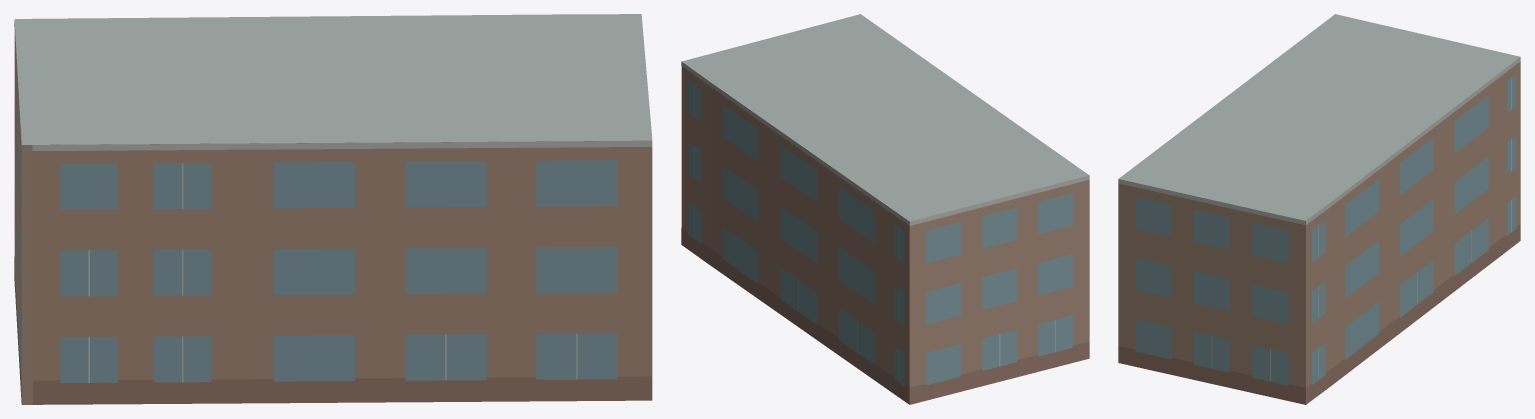
The model's file is survey-upis-32658300.glb.
The picture shows the model from 3 angles, left to right: view 1: azimuth 30°, elevation 25°; view 2: azimuth 150°, elevation 25°; view 3: azimuth 270°, elevation 25°; orthographic projection. The views are drawn at different scales.
Parts seen in each view (by area): view 1: survey-upis-32658300.tmp; view 2: survey-upis-32658300.tmp; view 3: survey-upis-32658300.tmp.
Part boxes in pixels (bbox=[...]): survey-upis-32658300.tmp: bbox=[14, 14, 652, 404]; survey-upis-32658300.tmp: bbox=[681, 14, 1089, 404]; survey-upis-32658300.tmp: bbox=[1118, 14, 1520, 404].
Bounding box in the file's own units: 24.62 × 10.2 × 20.23.
